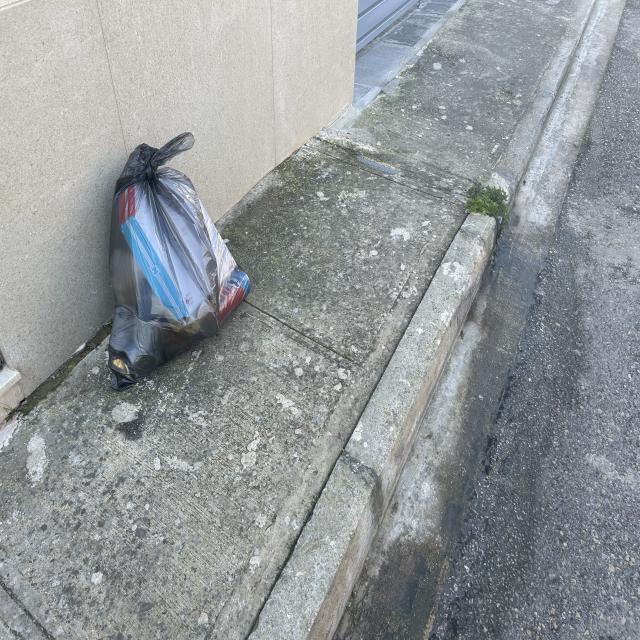black_bag: (97, 127, 253, 396)
